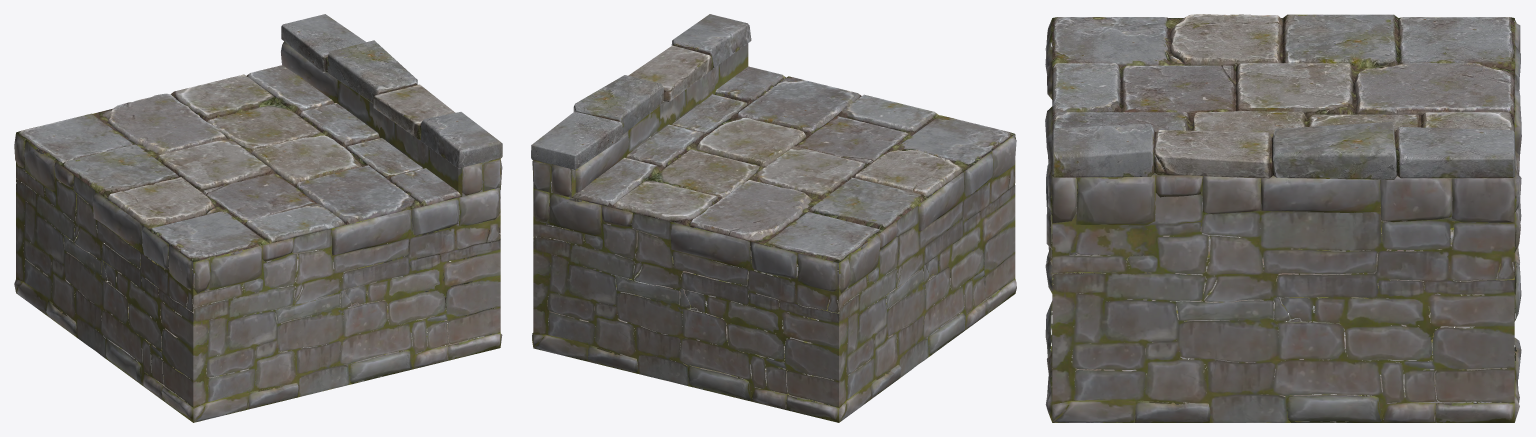
The picture shows the model from 3 angles, left to right: view 1: azimuth 30°, elevation 25°; view 2: azimuth 150°, elevation 25°; view 3: azimuth 270°, elevation 25°; orthographic projection. The views are drawn at different scales.
Parts seen in each view (by area): view 1: SM_Castle_Steps_4x2_02_v2_LOD0; view 2: SM_Castle_Steps_4x2_02_v2_LOD0; view 3: SM_Castle_Steps_4x2_02_v2_LOD0.
Boxes of the visible parts, x1=… form: SM_Castle_Steps_4x2_02_v2_LOD0: x1=14, y1=14, x2=502, y2=422; SM_Castle_Steps_4x2_02_v2_LOD0: x1=531, y1=14, x2=1016, y2=422; SM_Castle_Steps_4x2_02_v2_LOD0: x1=1045, y1=14, x2=1521, y2=422.
Bounding box in the file's own units: 4.14 × 2.62 × 4.12.
2 materials, 2 textured.
